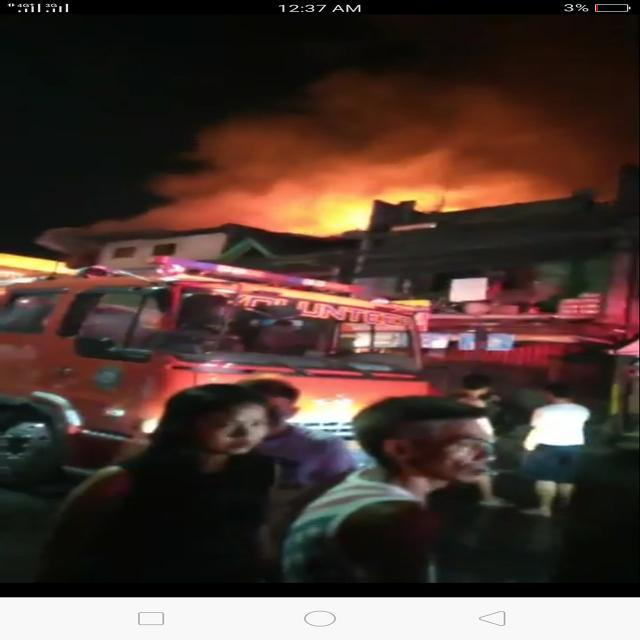Fire: (400, 160, 520, 215), (280, 184, 377, 238)
Smoke: (340, 68, 614, 198), (184, 128, 354, 214)
